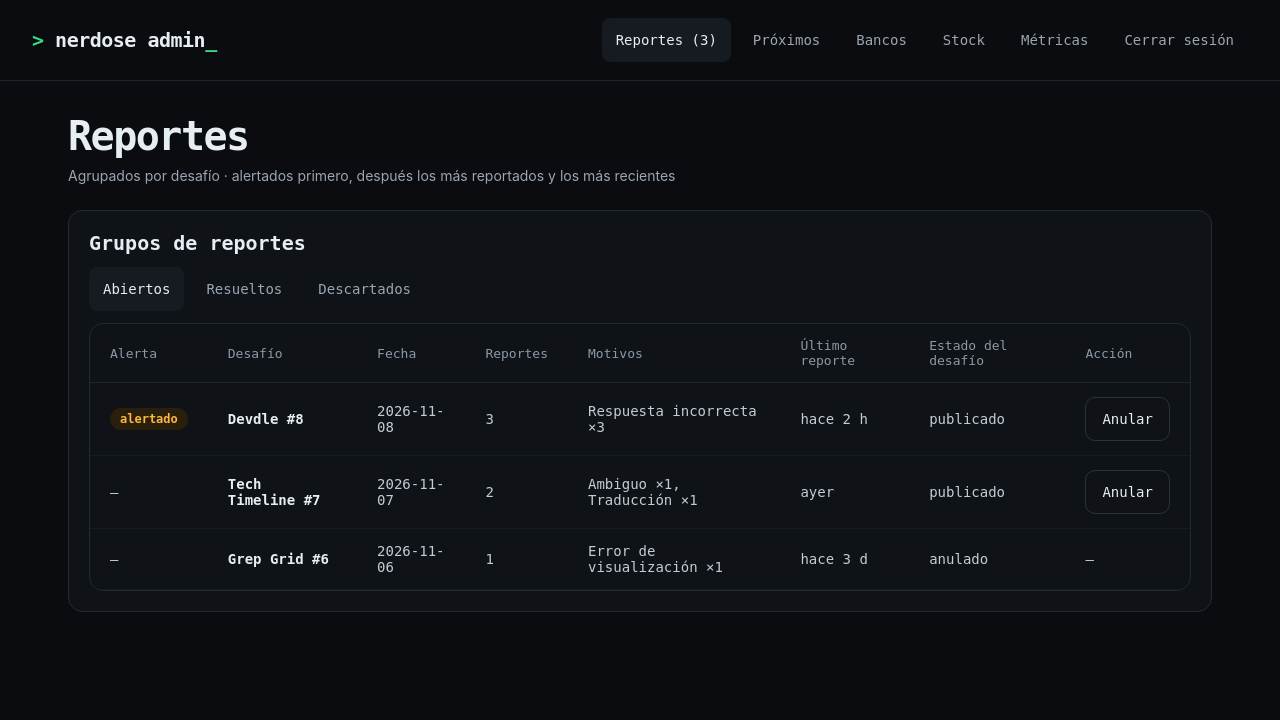
modal de anulación (O-01) › error de sistema (5xx) sin reintento automático (TS-59)
The width and height of the screenshot is (1280, 720).
Click the button "Devdle #8": (266, 419) 228,411 -> 304,427
(page scrolled)
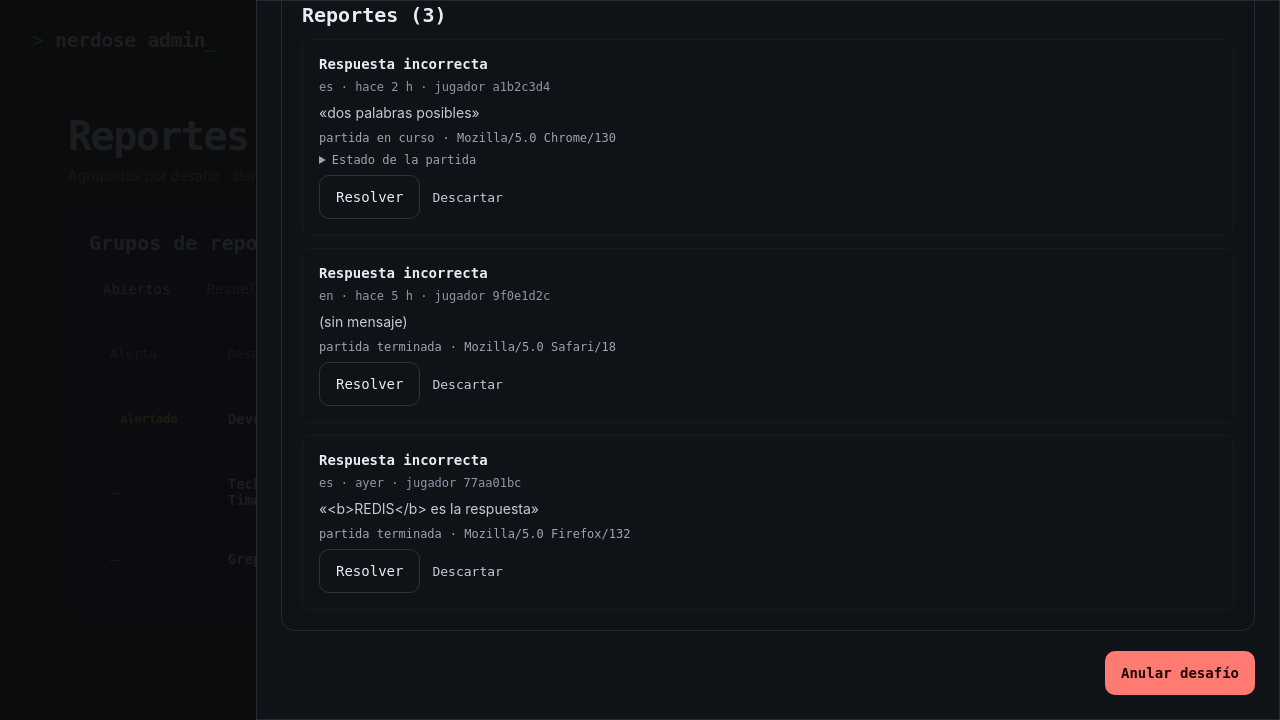
Click the button "Anular desafío": (1180, 673) 1105,651 -> 1255,695
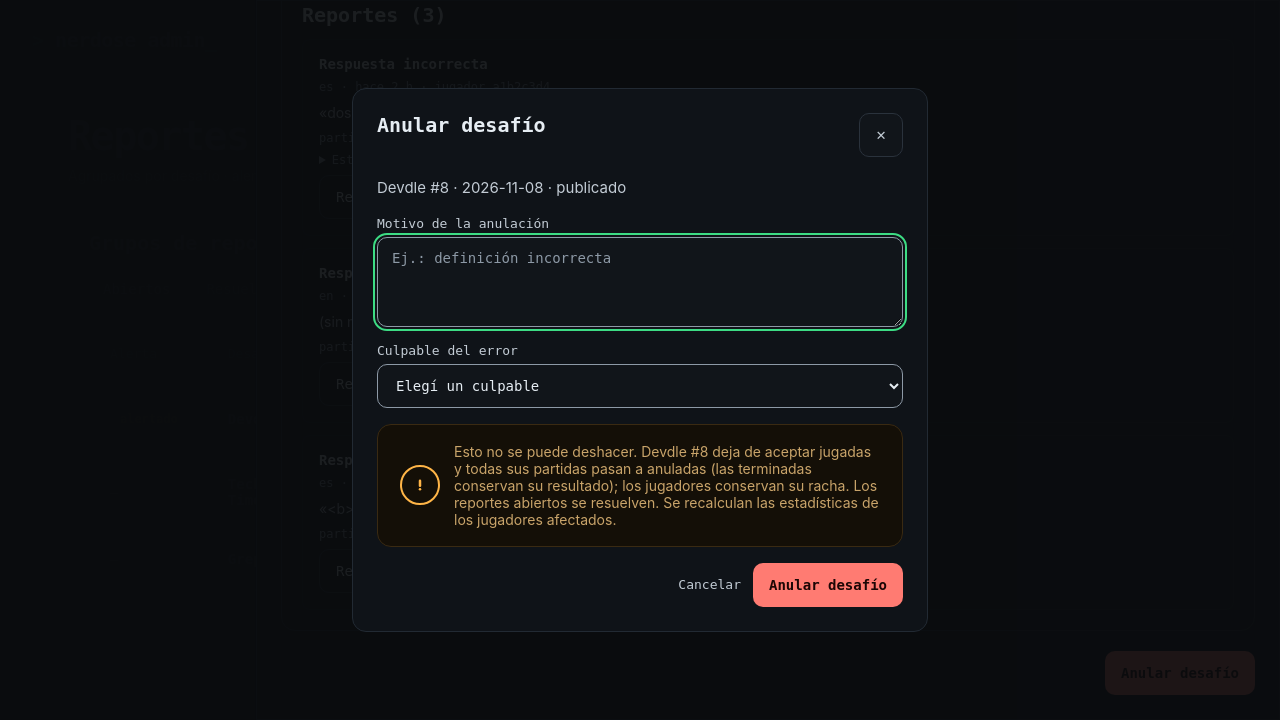
In the text box labelled "Motivo de la anulación": (640, 282) 377,237 -> 903,327, type "motivo"
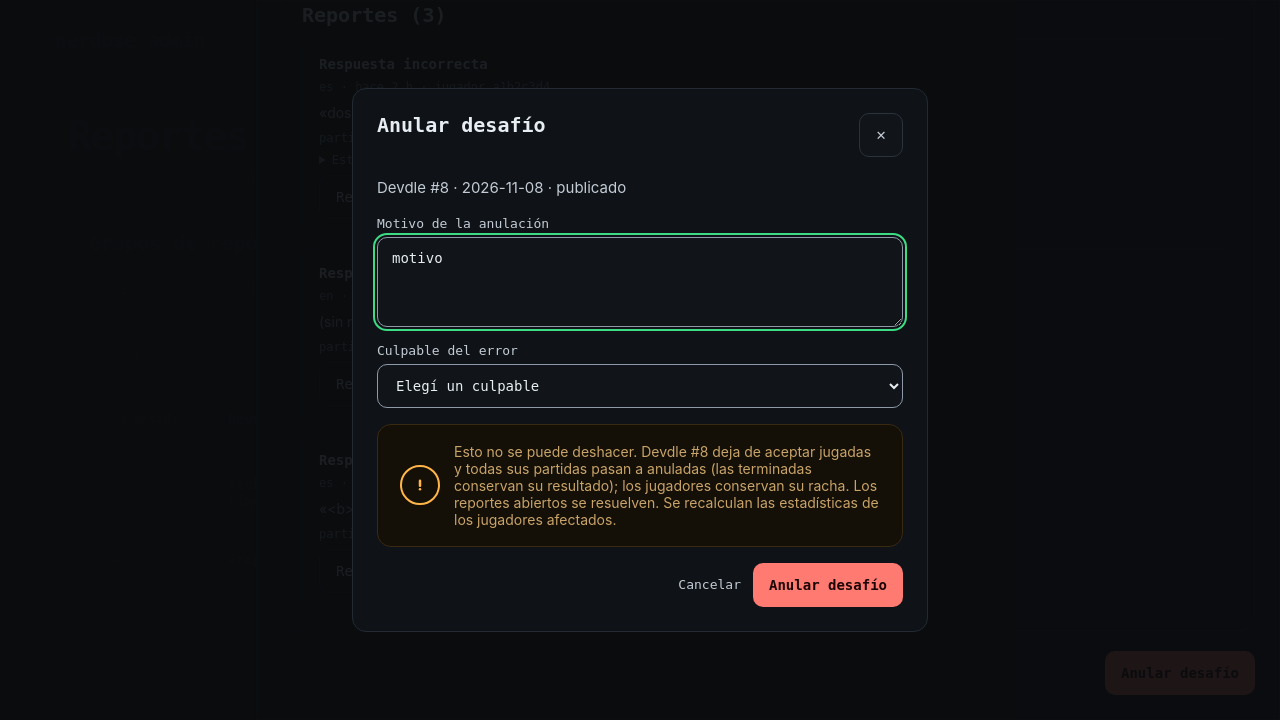
Select "Término · REDIS" in the dropdown labelled "Culpable del error": (640, 386) 377,364 -> 903,408
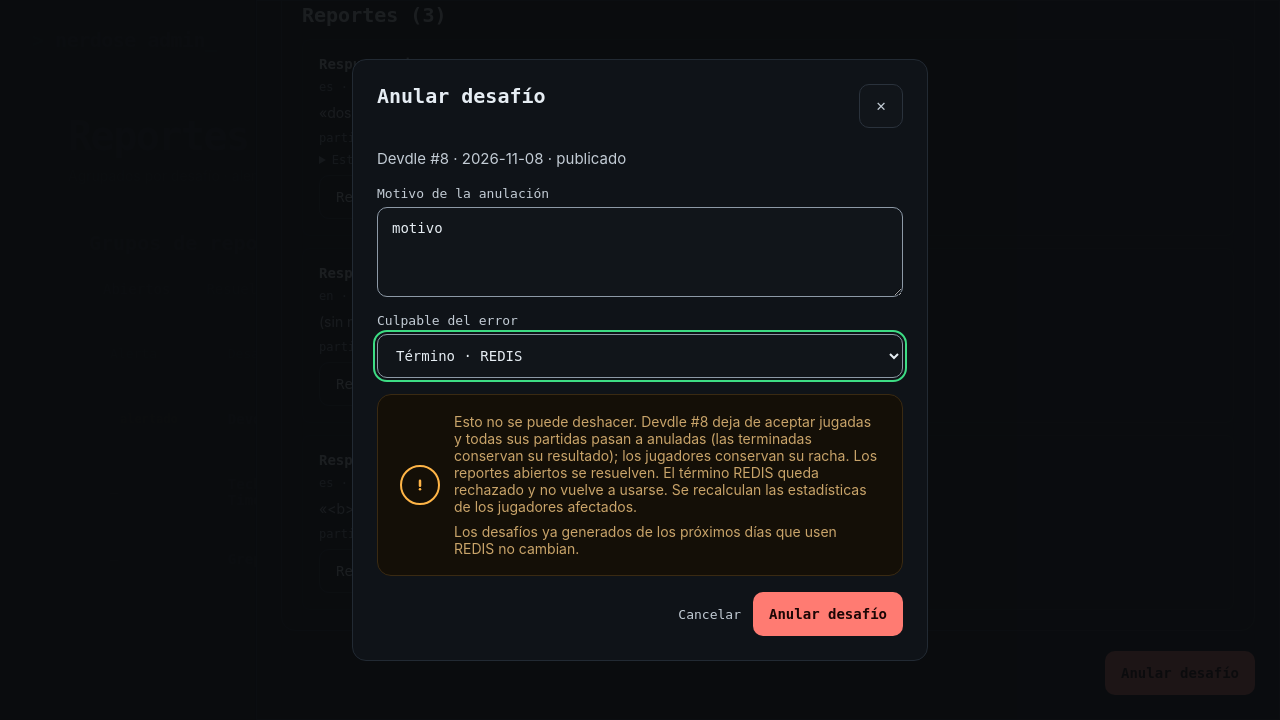
Click the button "Anular desafío": (828, 614) 753,592 -> 903,636
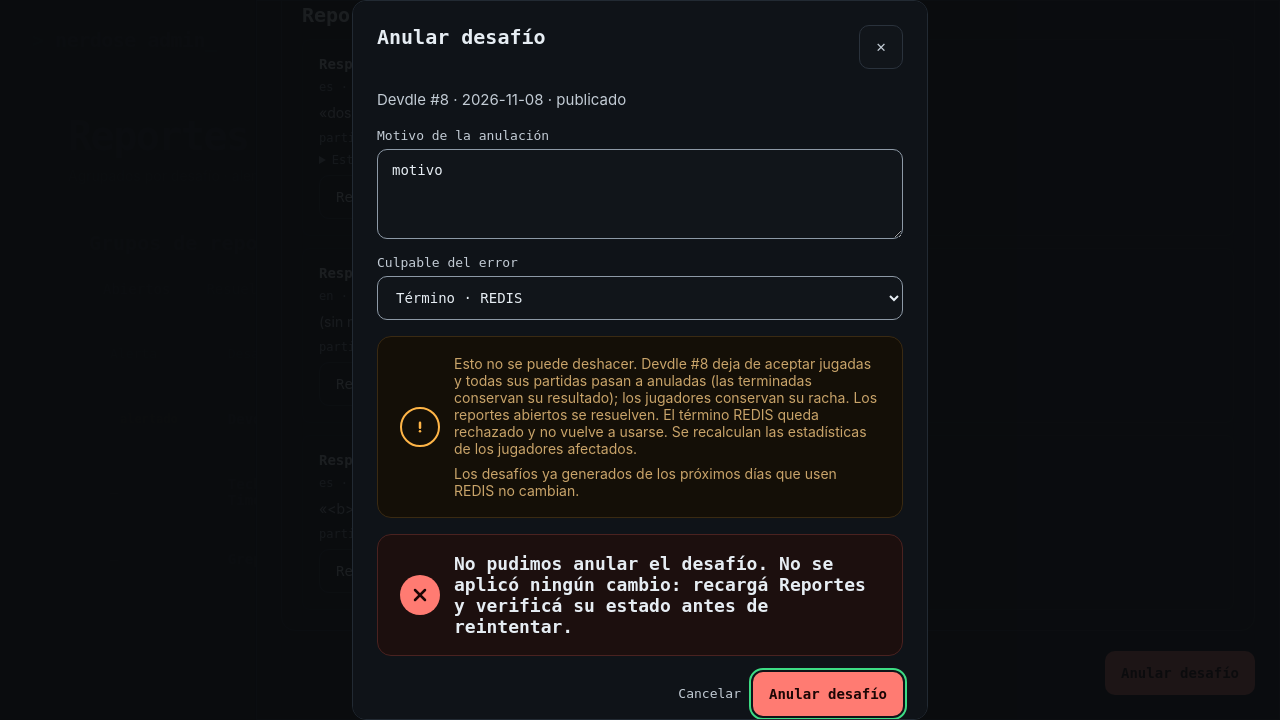
Result: the message shows "No pudimos anular el desafío. No se aplicó ningún cambio: recargá Reportes y verificá su estado antes de reintentar." at 454,552 -> 866,636
